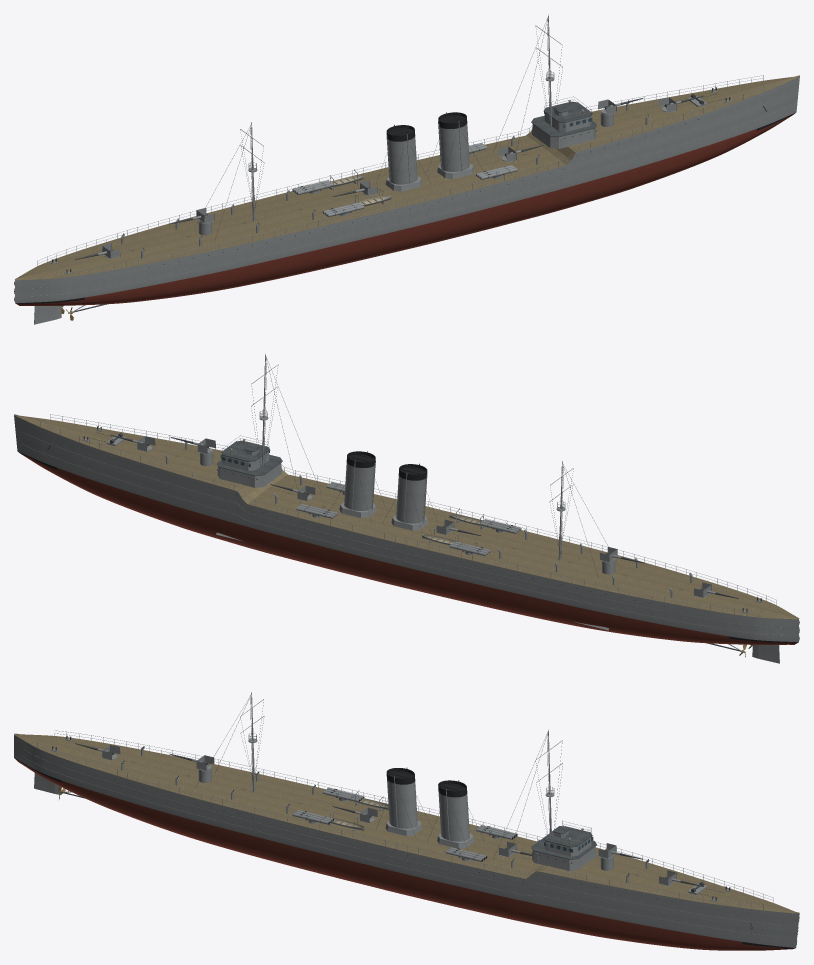
File: danae.glb
The picture shows the model from 3 angles, top to bottom: view 1: azimuth 30°, elevation 25°; view 2: azimuth 150°, elevation 25°; view 3: azimuth 330°, elevation 25°; orthographic projection.
Visible parts, largest first — view 1: Danae (D) class; view 2: Danae (D) class; view 3: Danae (D) class.
Boxes of the visible parts, box(x1,y1,x2,y2) form: Danae (D) class: box(14, 14, 799, 324); Danae (D) class: box(14, 353, 799, 663); Danae (D) class: box(14, 692, 799, 950).
Bounding box in the file's own units: 144 × 32.76 × 14.26.
9 materials, 8 textured.
